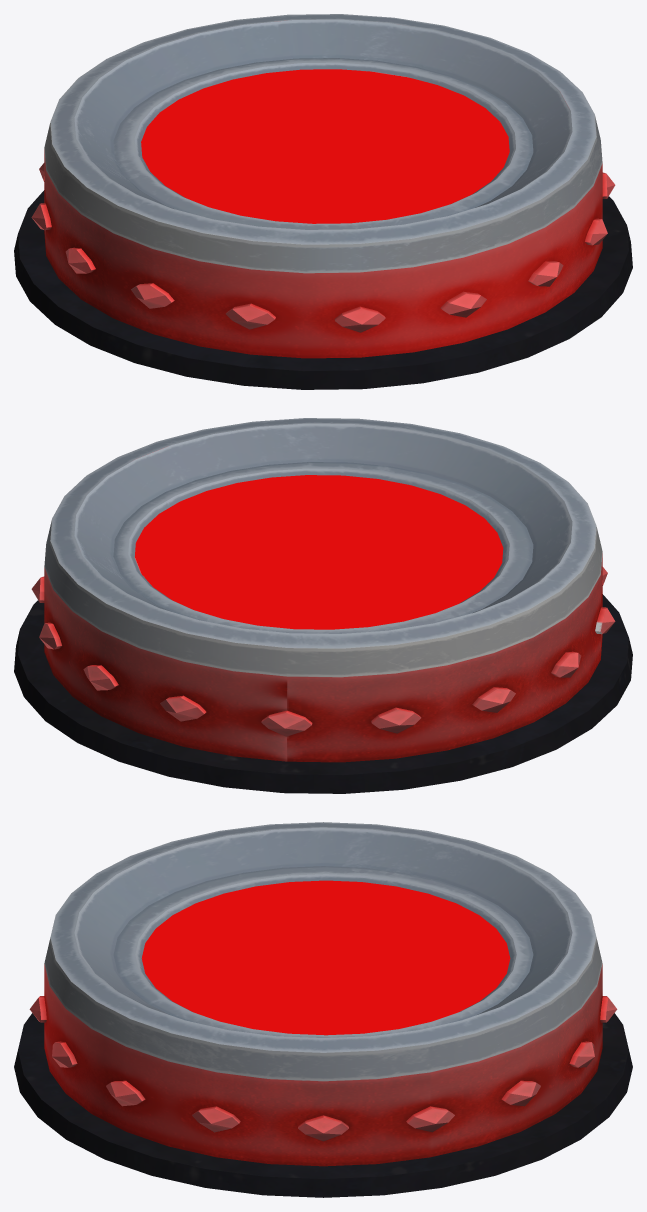
File: LaserBase2.glb
The picture shows the model from 3 angles, top to bottom: view 1: azimuth 30°, elevation 25°; view 2: azimuth 150°, elevation 25°; view 3: azimuth 270°, elevation 25°; orthographic projection.
Parts seen in each view (by area): view 1: Laser Base2; view 2: Laser Base2; view 3: Laser Base2.
Part boxes in pixels (x1,y1,x2,y2): Laser Base2: (14, 14, 632, 389); Laser Base2: (14, 418, 632, 793); Laser Base2: (14, 822, 632, 1197).
Bounding box in the file's own units: 2.22 × 0.5303 × 2.22.
1 material, 1 textured.
